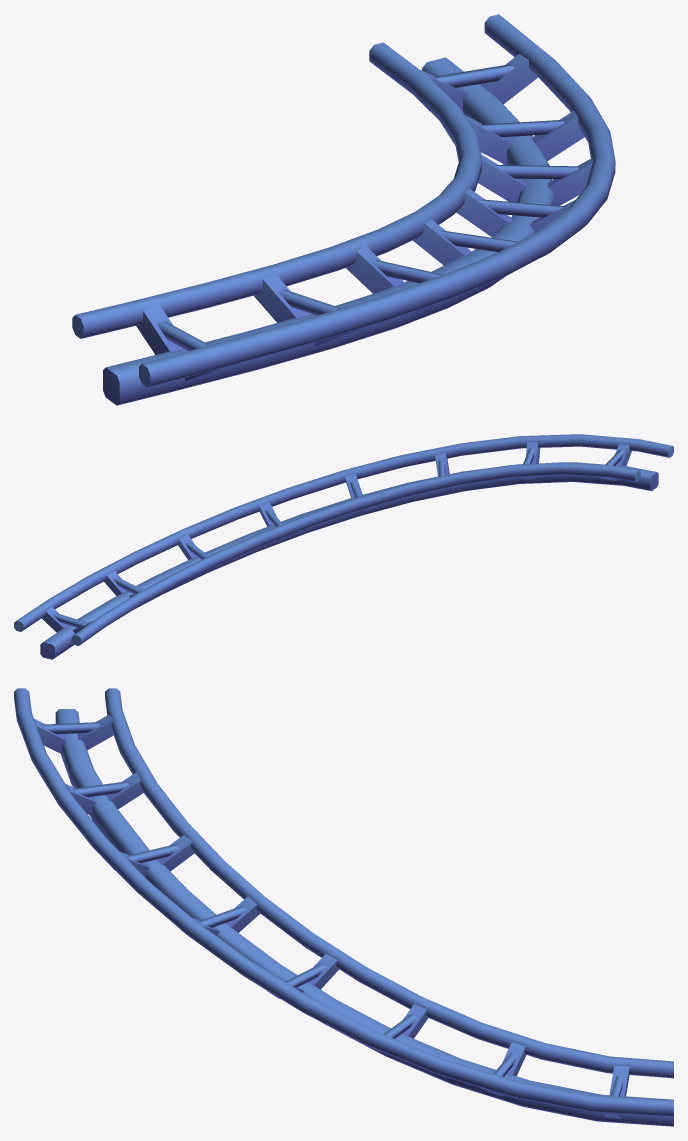
The model's file is steel-corner-large-ramp.glb.
The picture shows the model from 3 angles, top to bottom: view 1: azimuth 30°, elevation 25°; view 2: azimuth 150°, elevation 25°; view 3: azimuth 270°, elevation 25°; orthographic projection. The views are drawn at different scales.
Visible parts, largest first — view 1: coaster-steel-corner-large-ramp; view 2: coaster-steel-corner-large-ramp; view 3: coaster-steel-corner-large-ramp.
Part boxes in pixels (x1,y1,x2,y2): coaster-steel-corner-large-ramp: (72, 14, 615, 405); coaster-steel-corner-large-ramp: (14, 434, 673, 659); coaster-steel-corner-large-ramp: (14, 688, 673, 1126).
Bounding box in the file's own units: 4.35 × 1.3 × 4.35.
Materials: 1 (1 with a texture image).
